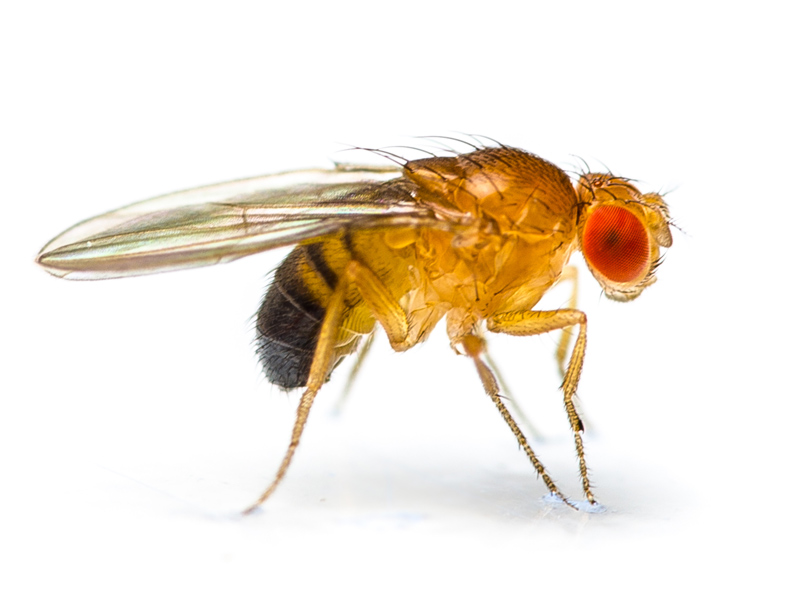Fruit Flies: (30, 116, 695, 522)
